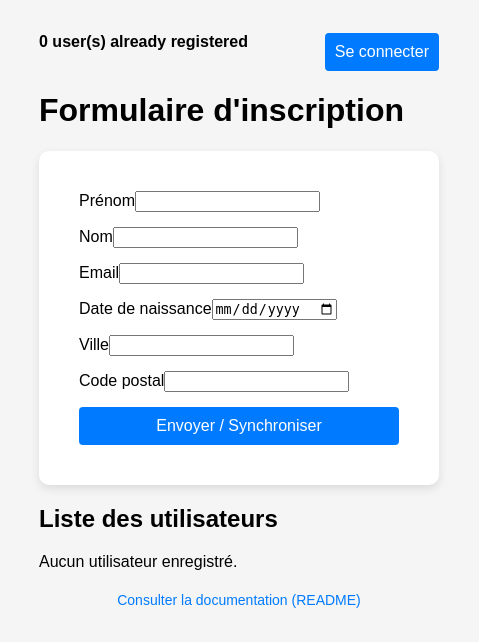
App component › shows error toaster if API fails
The width and height of the screenshot is (479, 642).
Type "Alice" into the field with test id "firstName".
click(228, 201); type("Alice")  # box [135,191,320,212]
Type "Dupont" into the field with test id "lastName".
click(205, 237); type("Dupont")  # box [113,227,298,248]
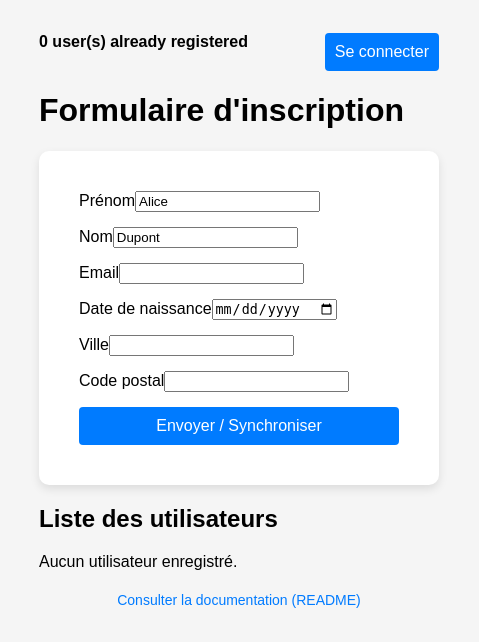
Type "alice.dupont@example.com" into the field with test id "email".
click(212, 273); type("alice.dupont@example.com")  # box [119,263,304,284]
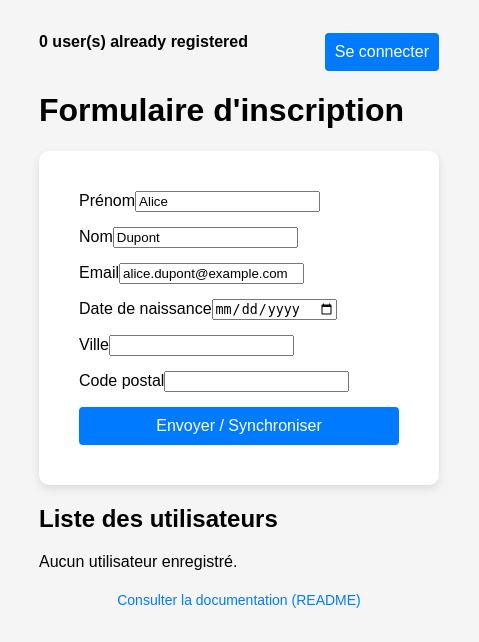
Type "1990-05-20" into the date field with test id "birthdate".
click(274, 310); type("1990-05-20")  # box [212,299,337,320]
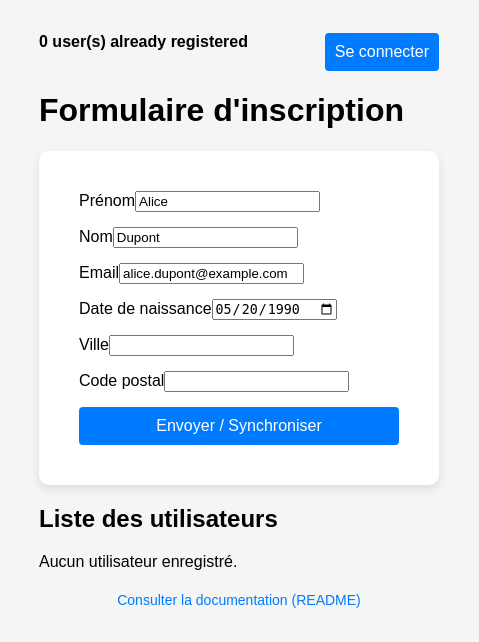
Type "Paris" into the field with test id "city".
click(202, 346); type("Paris")  # box [109,335,294,356]
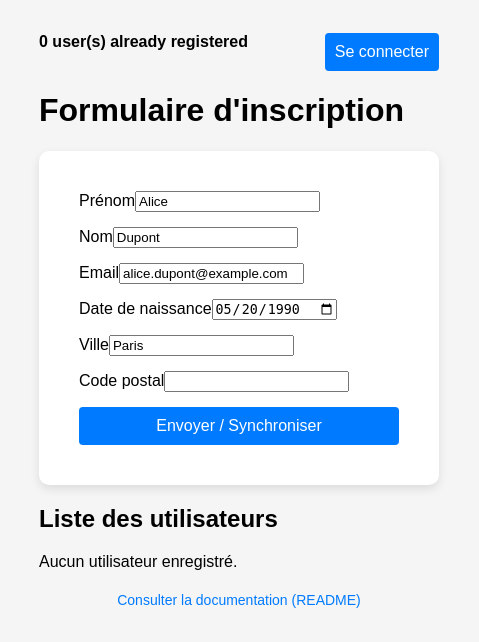
Type "75001" into the field with test id "zipcode".
click(257, 382); type("75001")  # box [164,371,349,392]
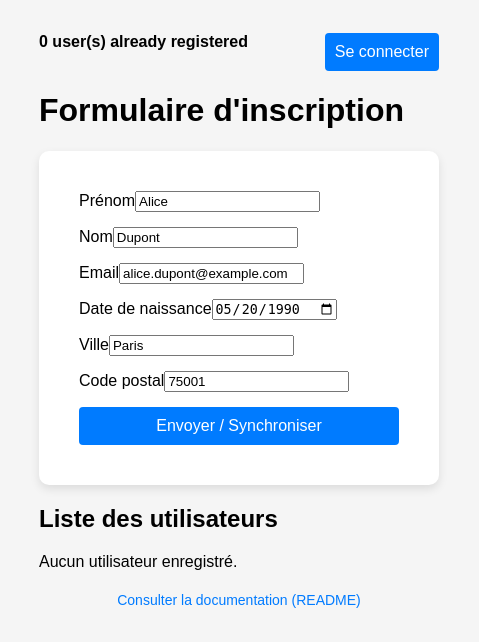
Click the button "Envoyer / Synchroniser".
click(239, 426)  # box [79,407,399,445]
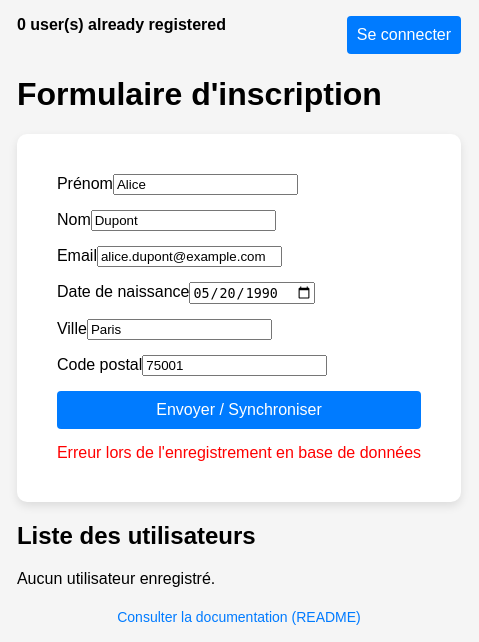
Expected: the message "Erreur lors de l'enregistrement en base de données" is shown, [57,444,421,462]
Expected: the message with test id "toaster-error" reads "Erreur lors de l'enregistrement en base de données", [57,444,421,461]
